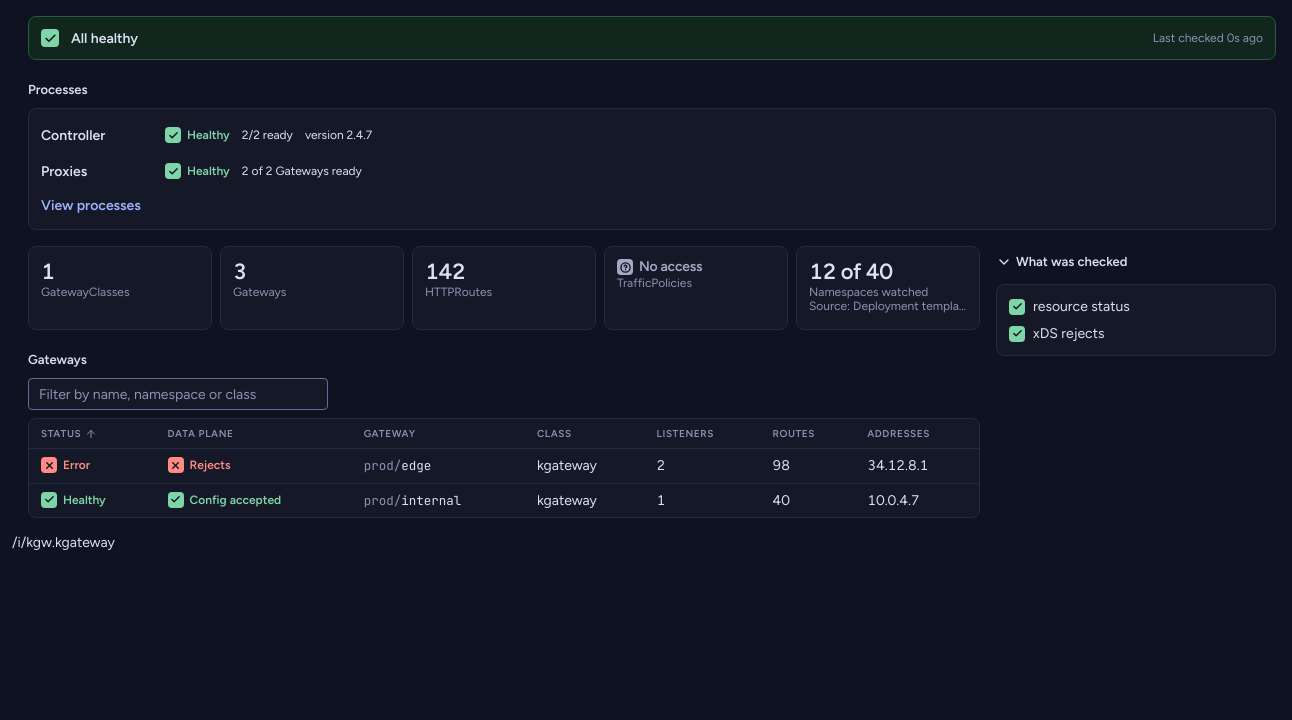
Test case: a selector without labels matches any label
Step 1. Hover over the text "12 of 40" → (851, 272), box x1=809 y1=259 x2=893 y2=285
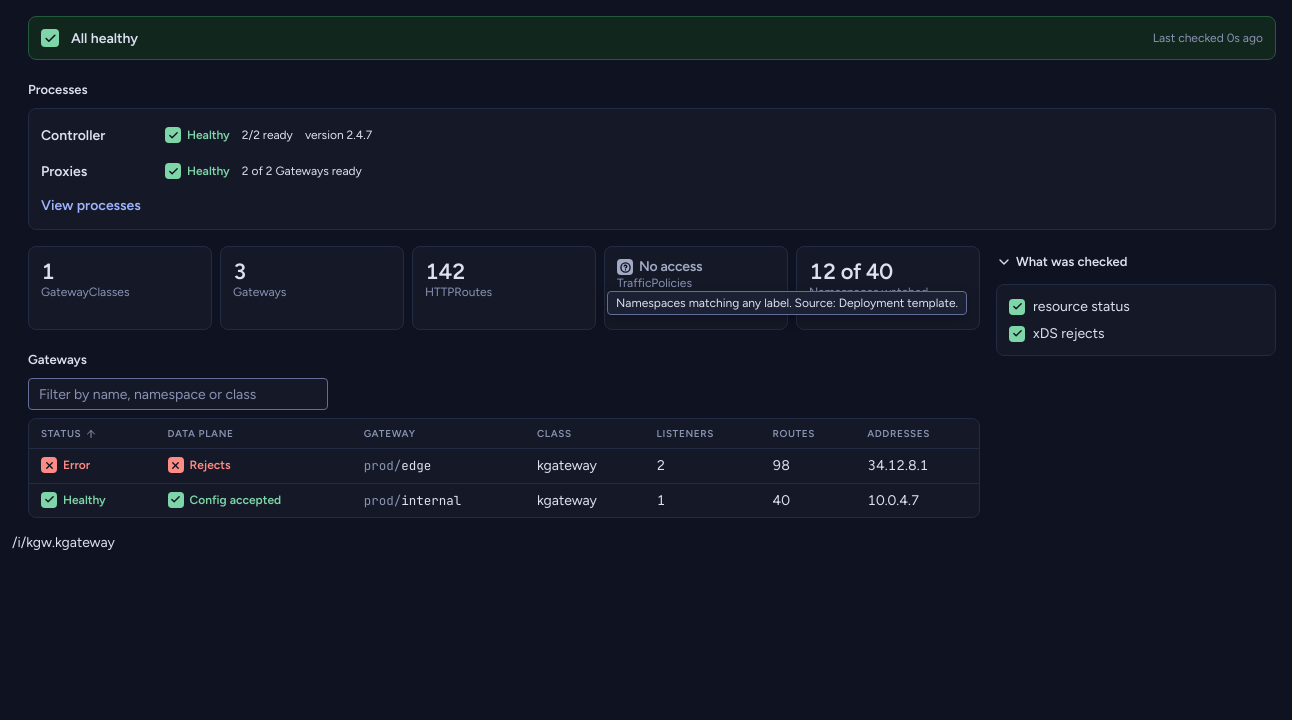
Check: the tooltip reads "Namespaces matching any label. Source: Deployment template.", box x1=616 y1=296 x2=958 y2=310
